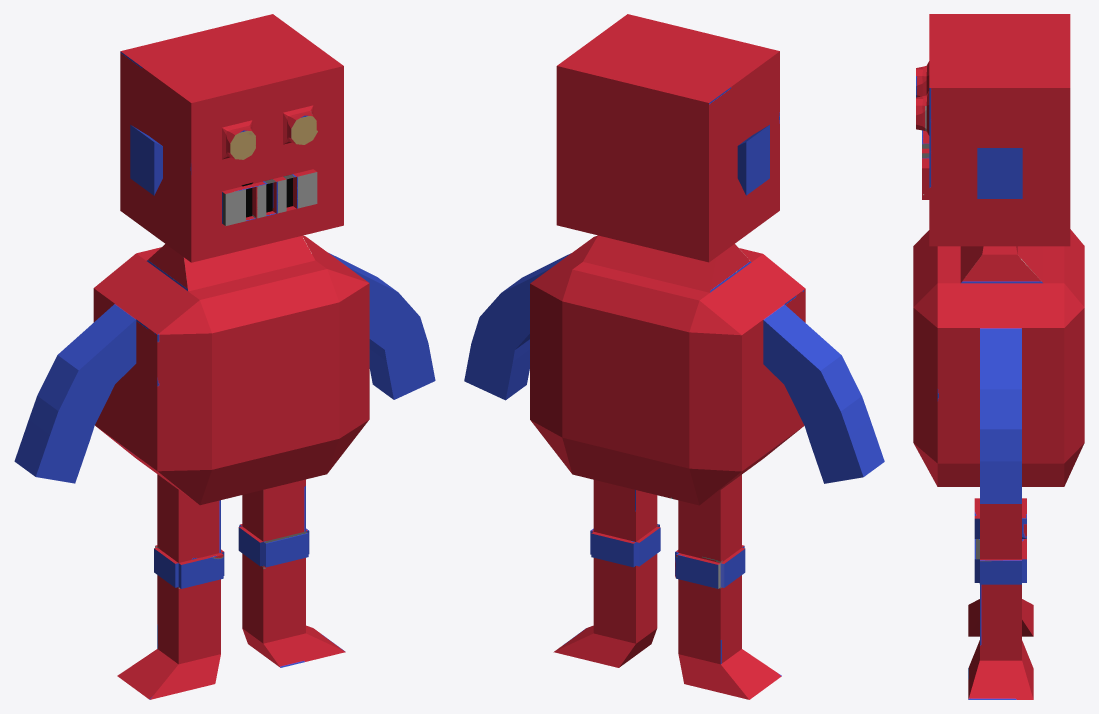
File: robo_1.fbx
3 renders of one model, left to right at view 1: azimuth 30°, elevation 25°; view 2: azimuth 150°, elevation 25°; view 3: azimuth 270°, elevation 25°, orthographic.
Parts seen in each view (by area): view 1: 立方体; view 2: 立方体; view 3: 立方体.
Part boxes in pixels (x1,y1,x2,y2): 立方体: (14, 14, 435, 699); 立方体: (464, 14, 884, 699); 立方体: (913, 14, 1084, 699).
Bounding box in the file's own units: 222 × 322 × 82.94.
1 material, 1 textured.
